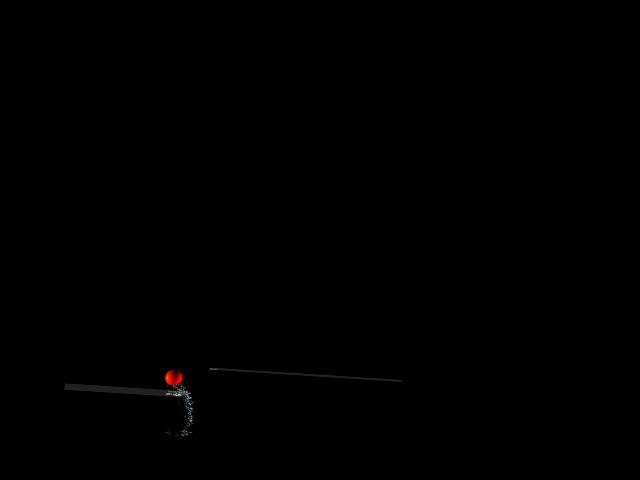tomato: (164, 369, 183, 386)
